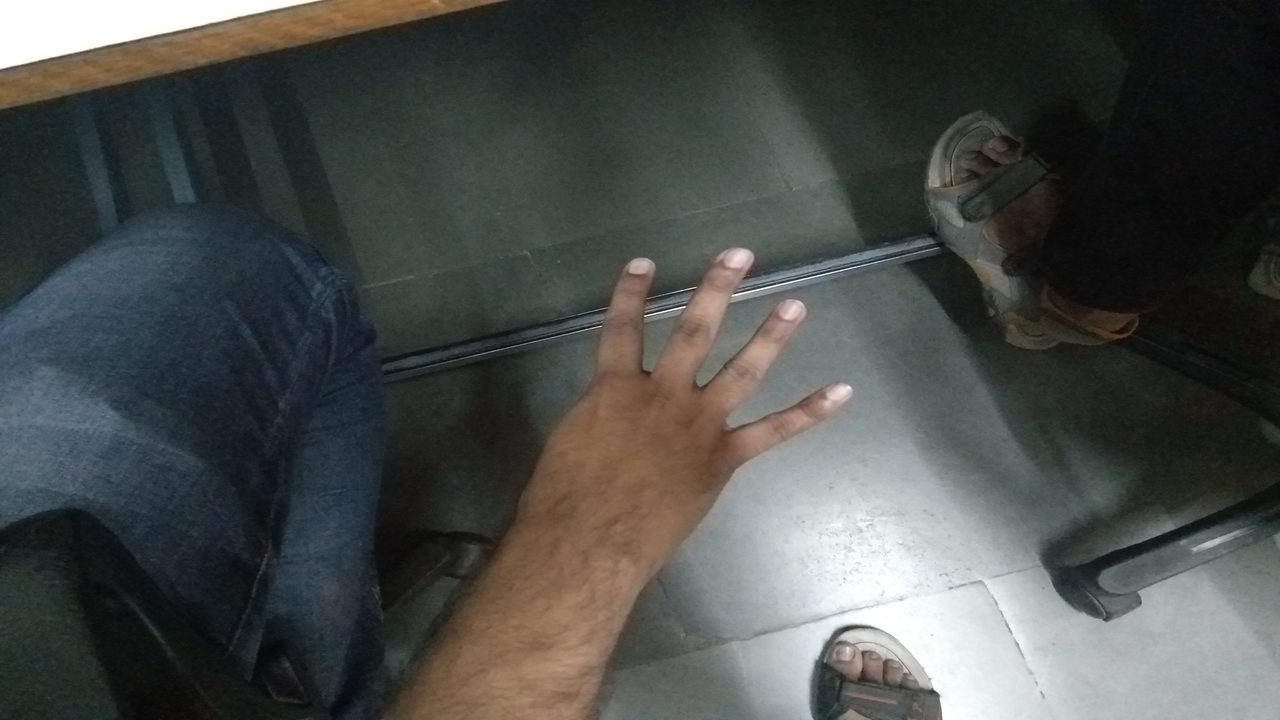fingertip: (782, 374, 872, 430), (698, 234, 766, 288), (752, 290, 818, 340), (610, 244, 664, 288)
